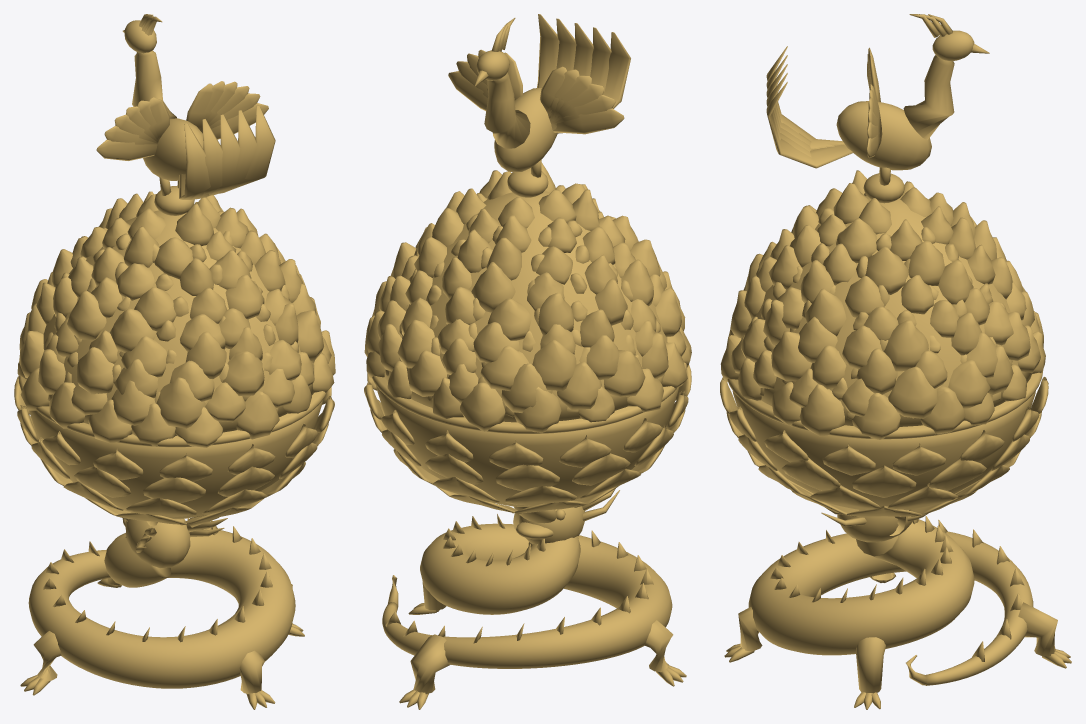
The model's file is hyangno.glb.
The picture shows the model from 3 angles, left to right: view 1: azimuth 30°, elevation 25°; view 2: azimuth 150°, elevation 25°; view 3: azimuth 270°, elevation 25°; orthographic projection. The views are drawn at different scales.
Parts seen in each view (by area): view 1: Hyangno; view 2: Hyangno; view 3: Hyangno.
Part boxes in pixels (bbox=[...]): Hyangno: bbox=[14, 14, 335, 709]; Hyangno: bbox=[364, 14, 691, 709]; Hyangno: bbox=[720, 14, 1071, 709].
Size of the model in its own units: 0.7418 by 1.52 by 0.7632.
